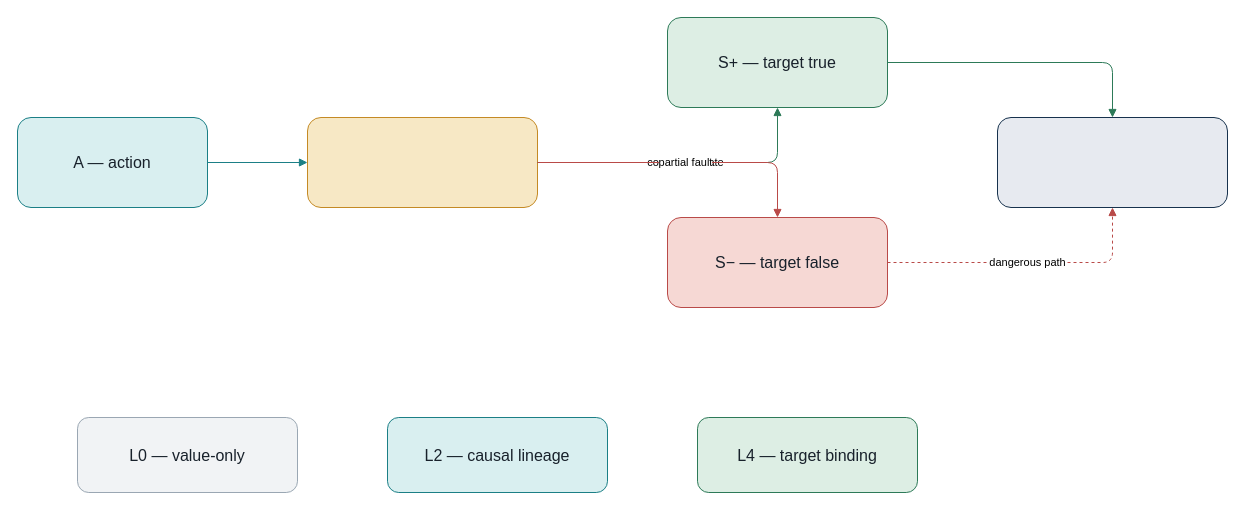
Some shapes in this 1245 by 510 pixel diagram are drawn without their labels. The shapes that lost their labels are listed below. From the top down, each one's centre as x and y in pixels, then its label:
At (422,162): "R — local success receipt".
At (1112,162): "D — authorize / hold".
